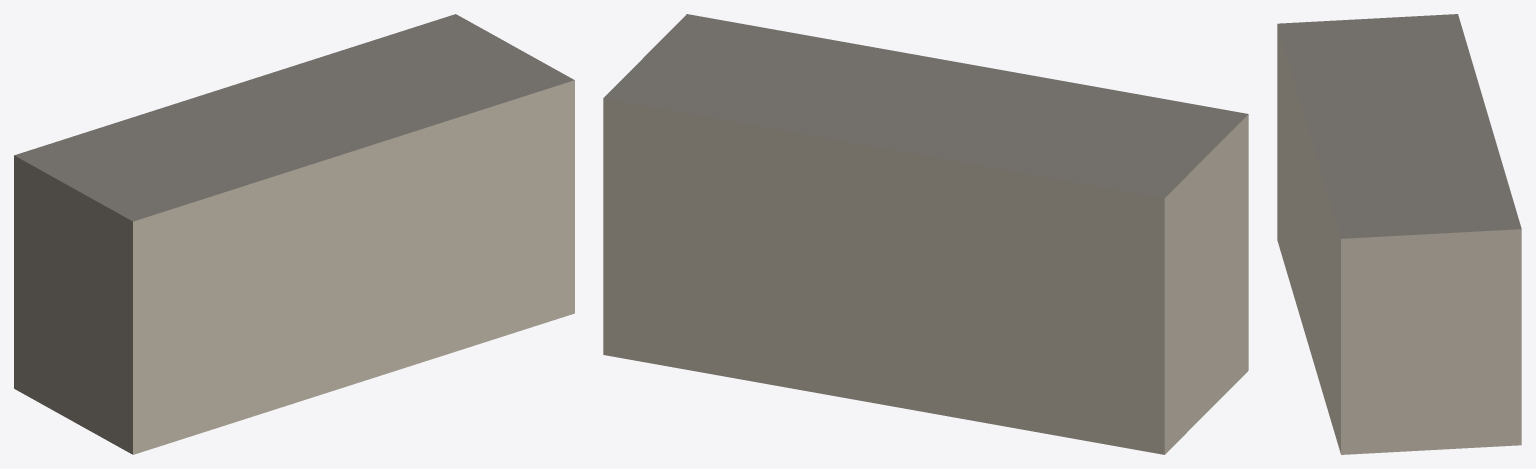
The picture shows the model from 3 angles, left to right: view 1: azimuth 30°, elevation 25°; view 2: azimuth 150°, elevation 25°; view 3: azimuth 270°, elevation 25°; orthographic projection. The views are drawn at different scales.
Visible parts, largest first — view 1: HP-w1286965258; view 2: HP-w1286965258; view 3: HP-w1286965258.
Boxes of the visible parts, bbox=[...] form: HP-w1286965258: bbox=[14, 14, 574, 454]; HP-w1286965258: bbox=[603, 14, 1248, 454]; HP-w1286965258: bbox=[1277, 14, 1521, 454].
Bounding box in the file's own units: 40.16 × 18 × 18.46.
